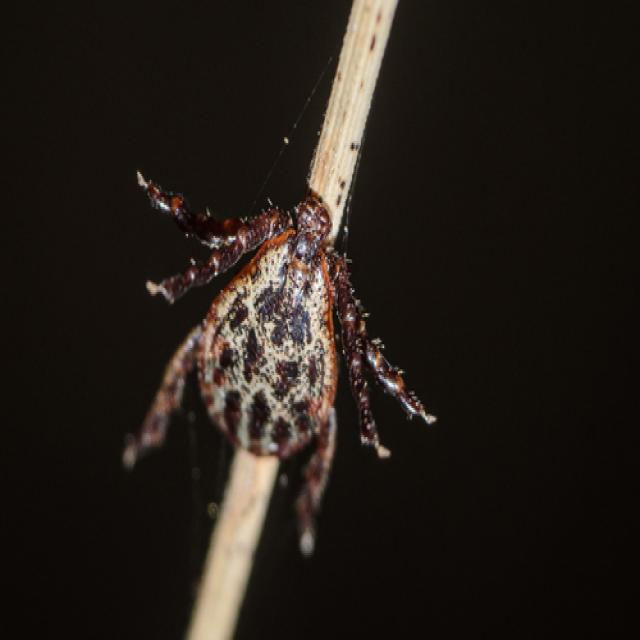Dermacentor Reticulatus-M: (123, 180, 434, 555)
